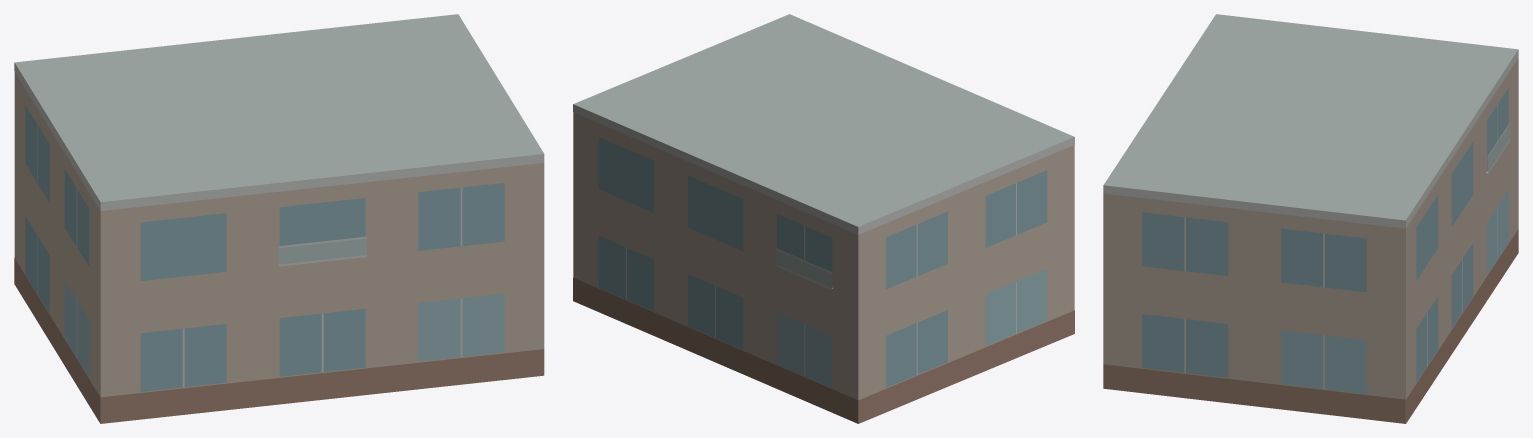
The model's file is survey-upis-32688781.glb.
The picture shows the model from 3 angles, left to right: view 1: azimuth 30°, elevation 25°; view 2: azimuth 150°, elevation 25°; view 3: azimuth 270°, elevation 25°; orthographic projection. The views are drawn at different scales.
Visible parts, largest first — view 1: survey-upis-32688781.tmp; view 2: survey-upis-32688781.tmp; view 3: survey-upis-32688781.tmp.
Boxes of the visible parts, left/top/right/bottom form: survey-upis-32688781.tmp: left=14, top=14, right=544, bottom=423; survey-upis-32688781.tmp: left=573, top=14, right=1074, bottom=423; survey-upis-32688781.tmp: left=1103, top=14, right=1518, bottom=423.
Size of the model in its own units: 13.3 by 6.1 by 11.3.
